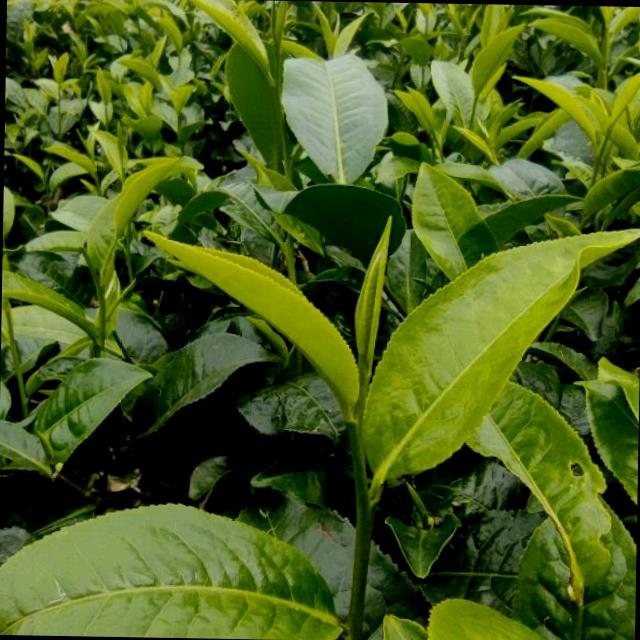Stem: (347, 418, 362, 435)
